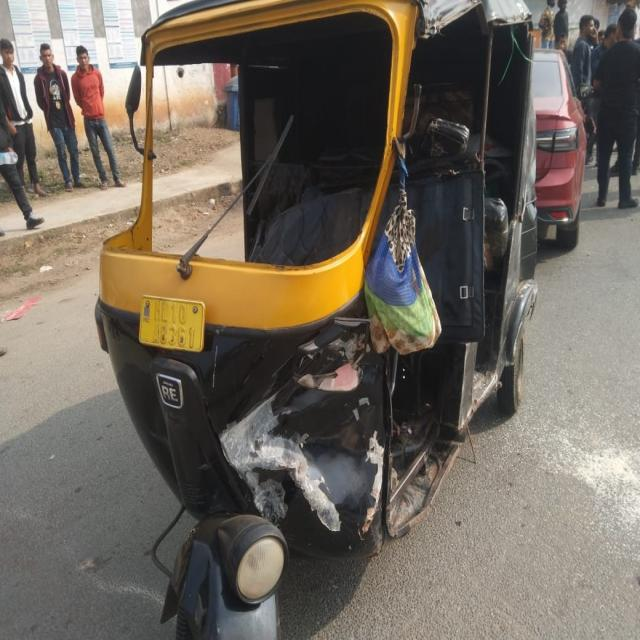autorickshaw: (95, 0, 538, 638)
car: (532, 50, 586, 248)
